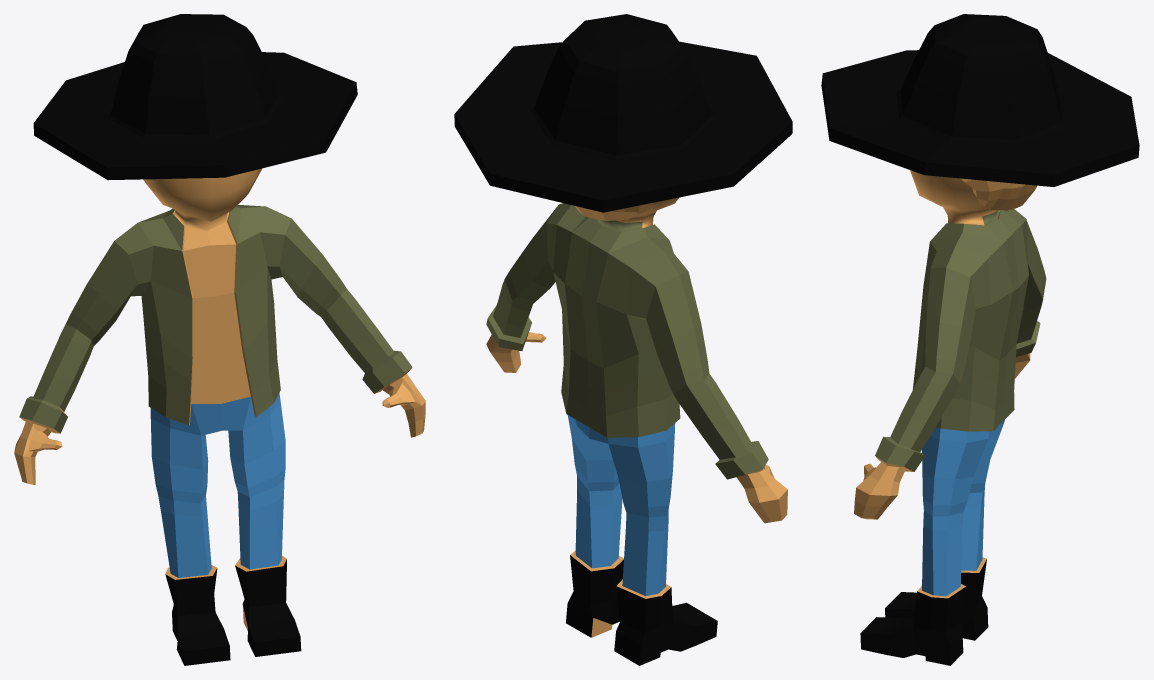
The model's file is cowboy.fbx.
The picture shows the model from 3 angles, left to right: view 1: azimuth 30°, elevation 25°; view 2: azimuth 150°, elevation 25°; view 3: azimuth 270°, elevation 25°; orthographic projection. The views are drawn at different scales.
Parts seen in each view (by area): view 1: Character.001; view 2: Character.001; view 3: Character.001.
Boxes of the visible parts, x1,y1,x2,y2 form: Character.001: (14,14,425,665); Character.001: (454,14,792,665); Character.001: (821,14,1139,665).
Size of the model in its own units: 30.18 by 50.77 by 24.07.
